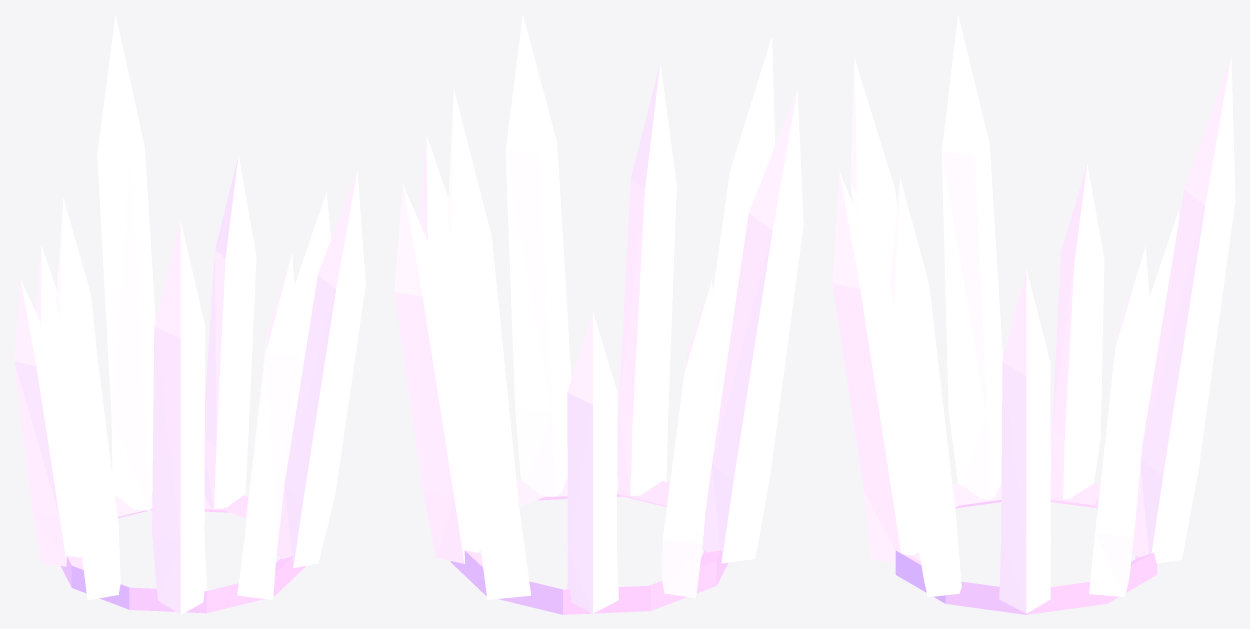
File: dc_shade_crown.glb
The picture shows the model from 3 angles, left to right: view 1: azimuth 30°, elevation 25°; view 2: azimuth 150°, elevation 25°; view 3: azimuth 270°, elevation 25°; orthographic projection. The views are drawn at different scales.
Parts seen in each view (by area): view 1: part.dc_shade_crown; view 2: part.dc_shade_crown; view 3: part.dc_shade_crown.
Boxes of the visible parts, left/top/right/bottom form: part.dc_shade_crown: left=14, top=15, right=365, bottom=614; part.dc_shade_crown: left=394, top=15, right=803, bottom=614; part.dc_shade_crown: left=832, top=14, right=1235, bottom=614.
Size of the model in its own units: 0.2996 by 0.4391 by 0.3104.
